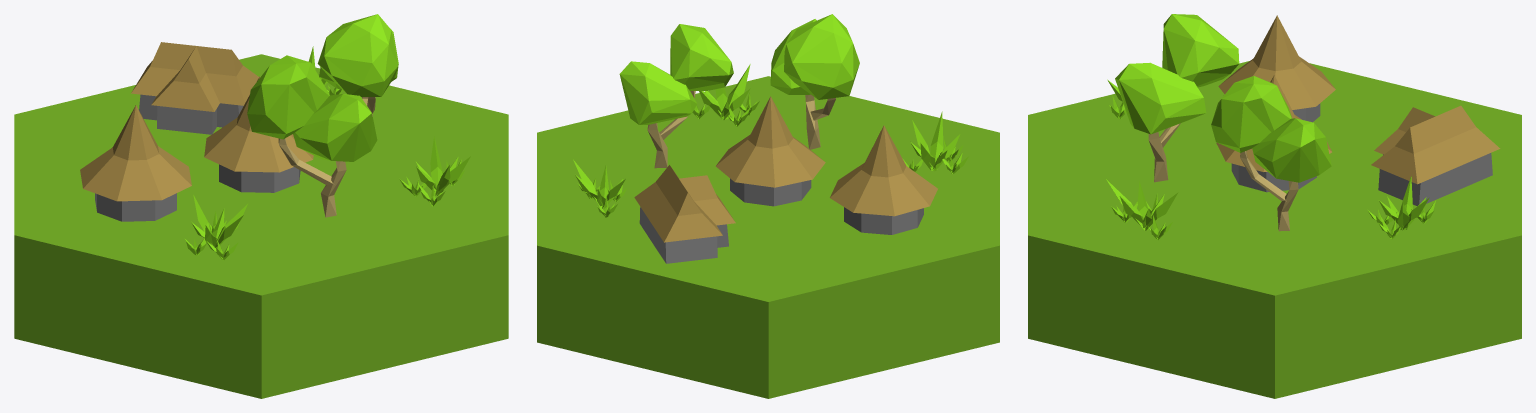
The model's file is Casas_Selva_1_3.fbx.
3 renders of one model, left to right at view 1: azimuth 30°, elevation 25°; view 2: azimuth 150°, elevation 25°; view 3: azimuth 270°, elevation 25°, orthographic. The views are drawn at different scales.
Visible parts, largest first — view 1: Casas_Selva_7; view 2: Casas_Selva_7; view 3: Casas_Selva_7.
Boxes of the visible parts, x1,y1,x2,y2 form: Casas_Selva_7: (14, 14, 508, 398); Casas_Selva_7: (537, 14, 999, 398); Casas_Selva_7: (1028, 14, 1521, 398).
Bounding box in the file's own units: 200 × 99.25 × 173.
